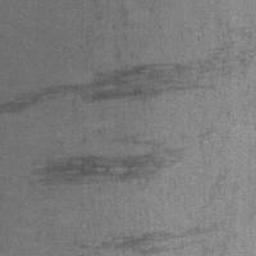Water spot: (0, 20, 256, 115), (31, 127, 188, 193), (76, 220, 224, 255)
